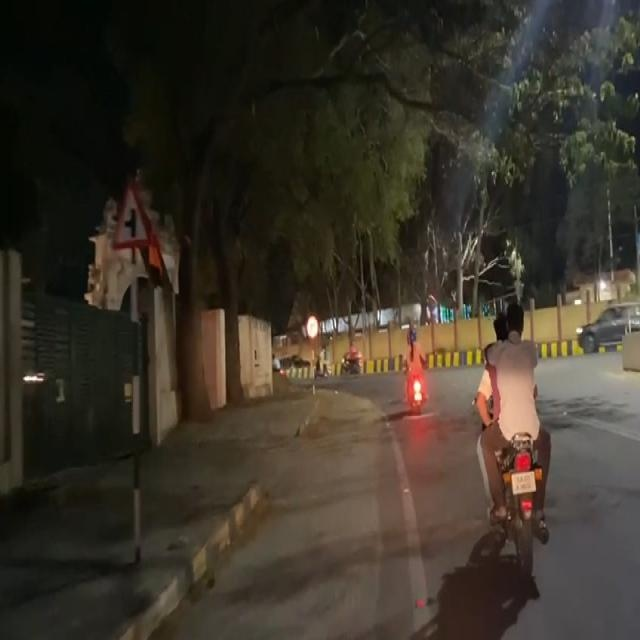bien_nguy_hiem: (109, 174, 153, 248)
